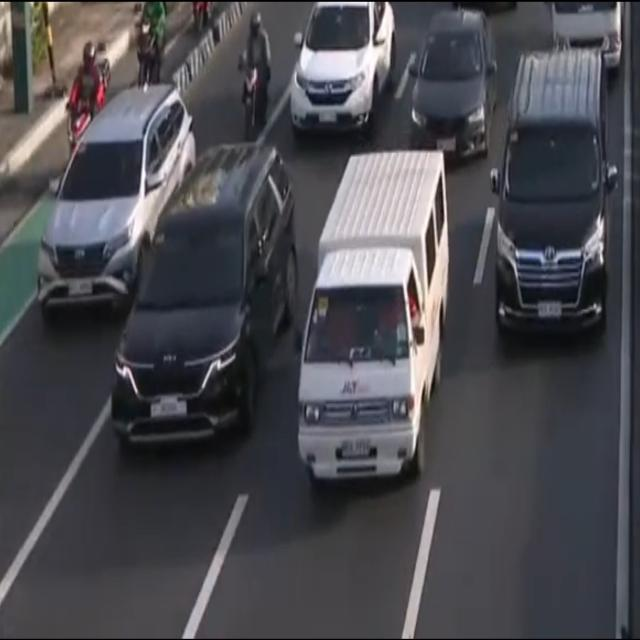Motorcycle: (236, 7, 270, 138)
Pick-up: (298, 151, 452, 487)
SUV: (106, 147, 294, 458), (34, 87, 194, 329)
Sedan: (409, 13, 495, 162)
Van: (492, 44, 612, 340)
